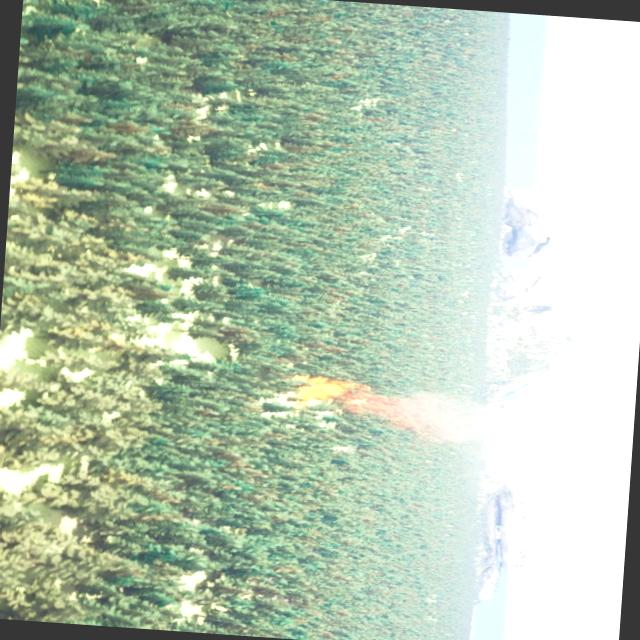fire: (295, 376, 365, 406)
smoke: (362, 388, 496, 447)
